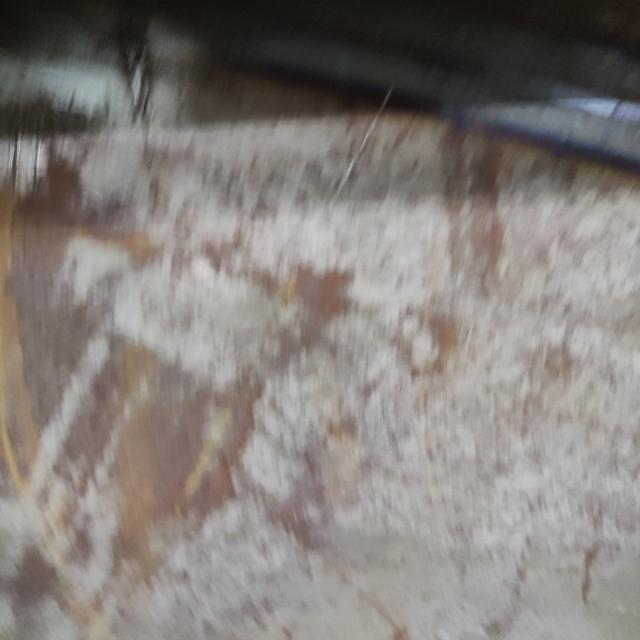seam: (6, 0, 640, 195)
